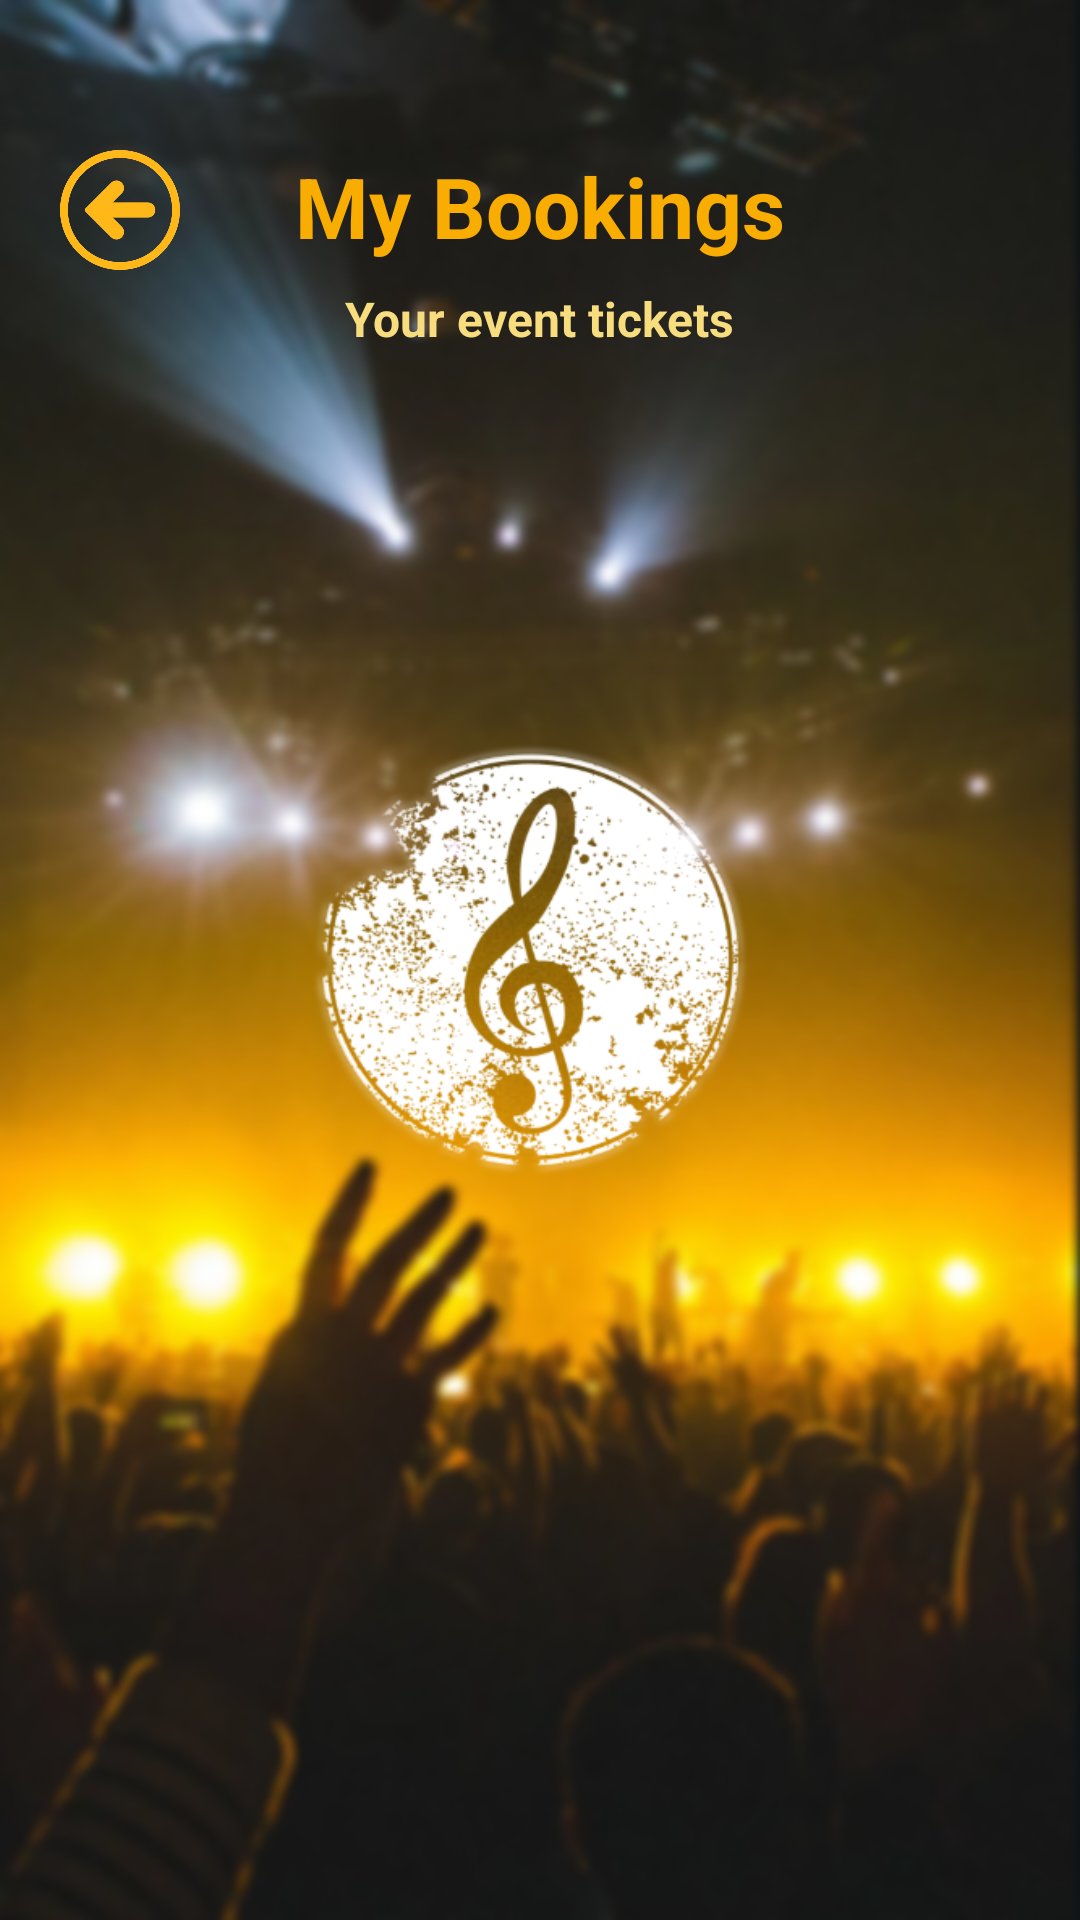

Locate icon controls on the screen. Image size 1080px×1920px, boxes as (x1=x1, y1=y1, x2=x2, y2=y2).
Back: (x1=60, y1=150, x2=180, y2=270)
